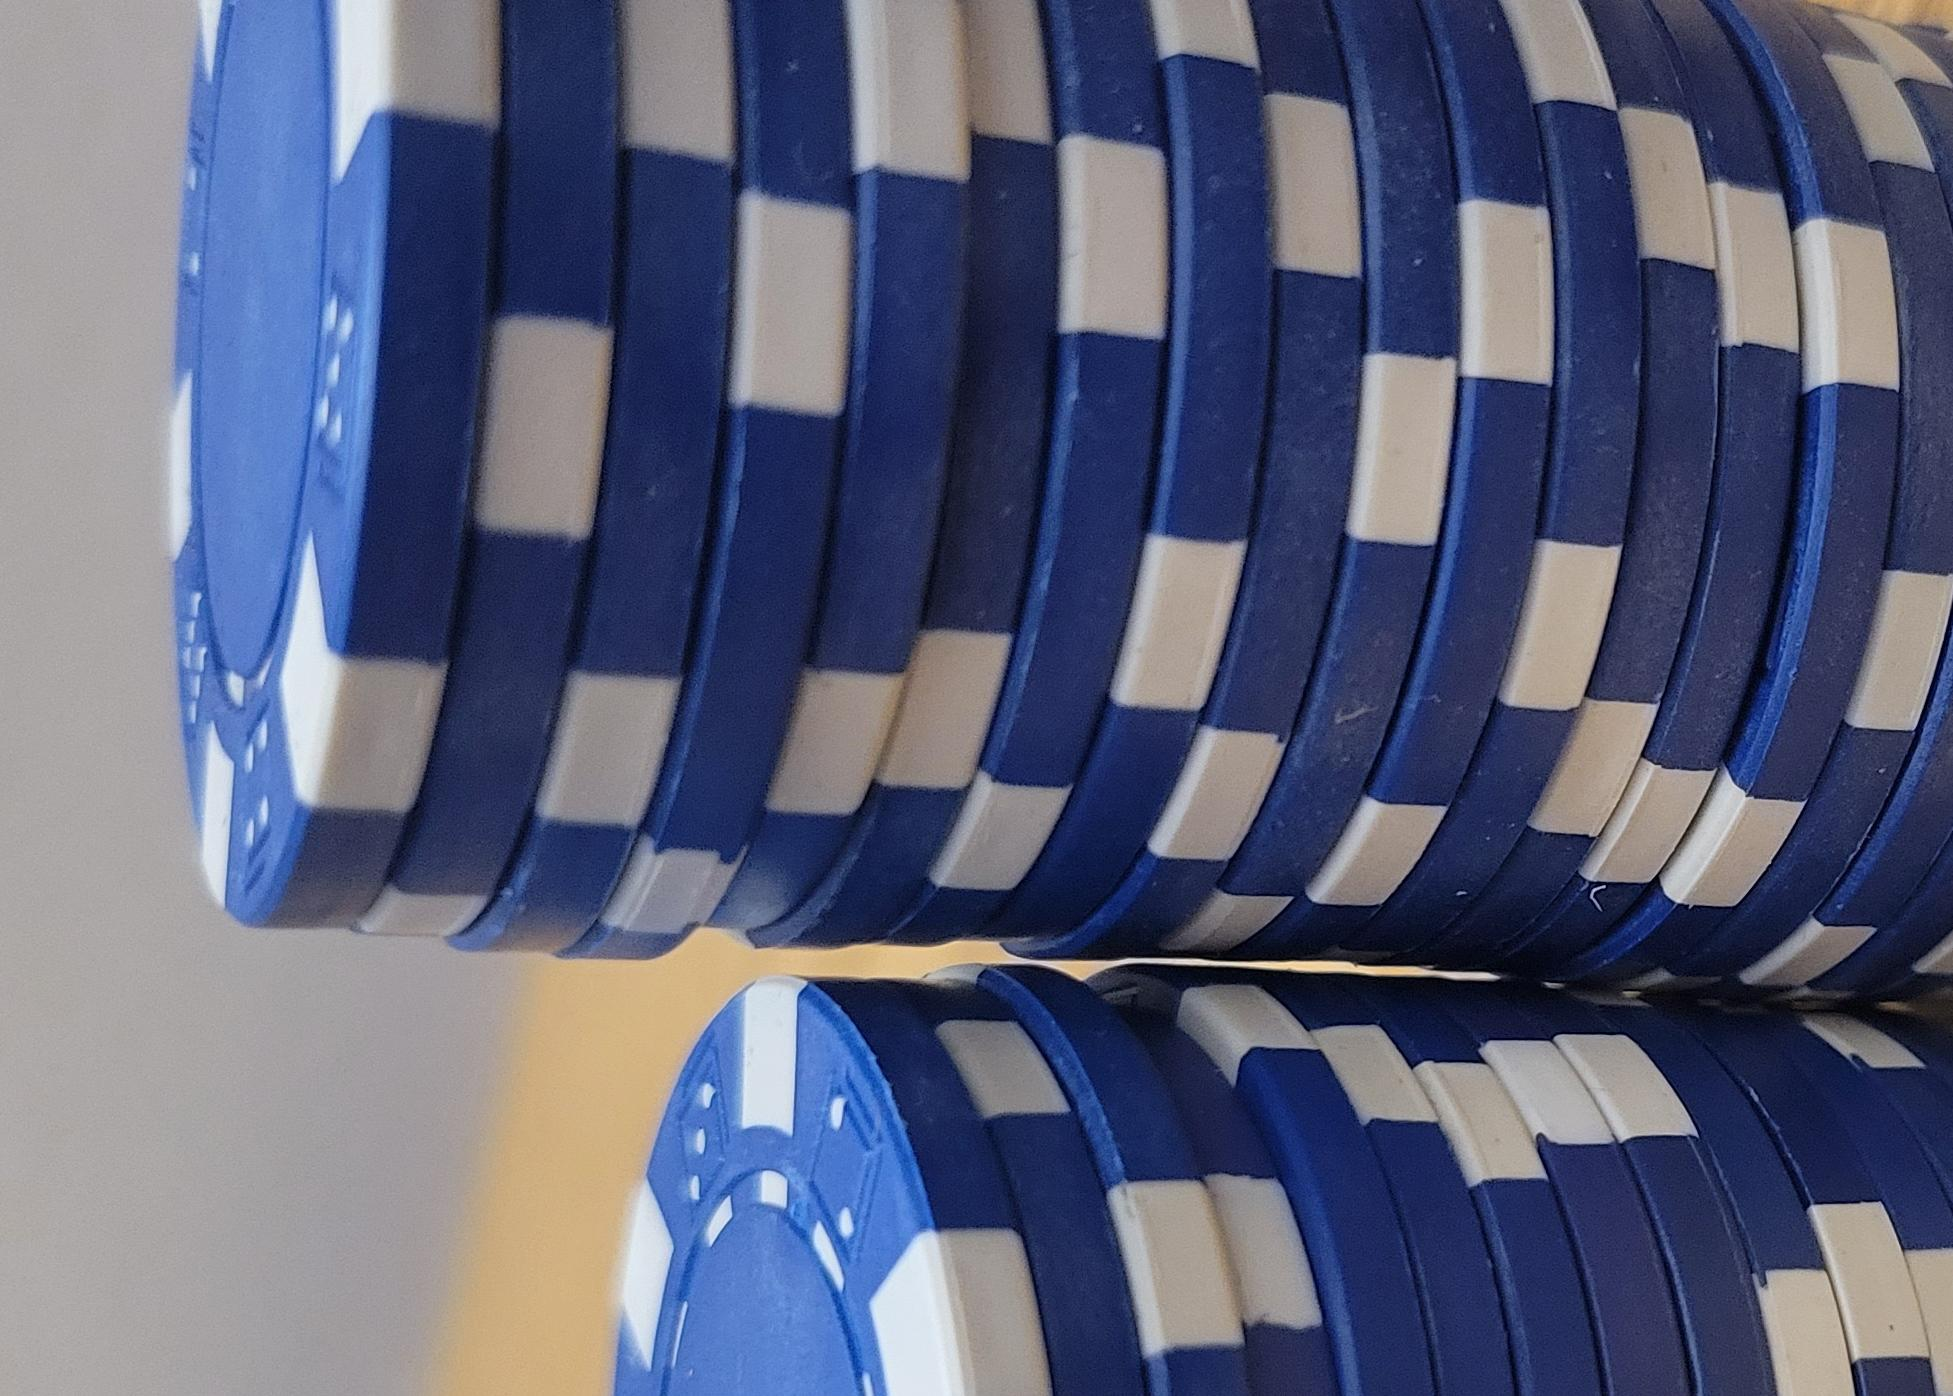Chip: (2, 184, 1399, 1396)
